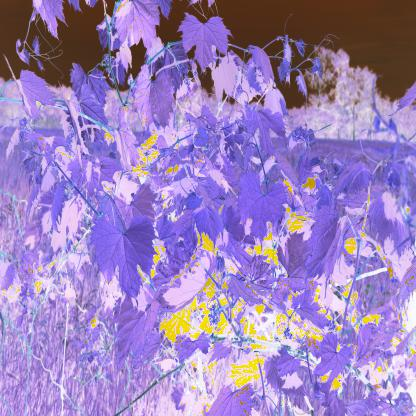grape leaf: (89, 219, 157, 304), (113, 290, 161, 371), (234, 173, 290, 241), (174, 15, 232, 71), (4, 65, 55, 123), (63, 153, 121, 201), (237, 103, 285, 160), (131, 67, 175, 128), (115, 0, 160, 53), (310, 332, 356, 378), (209, 50, 247, 105), (203, 383, 259, 416), (245, 43, 278, 85)
